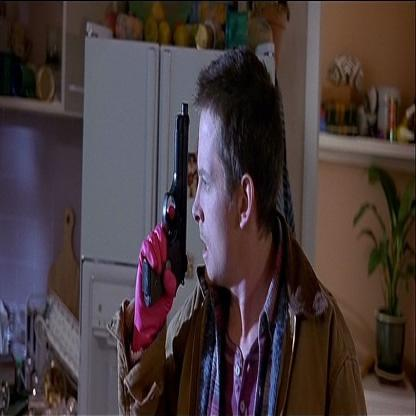gun: (134, 73, 203, 366)
